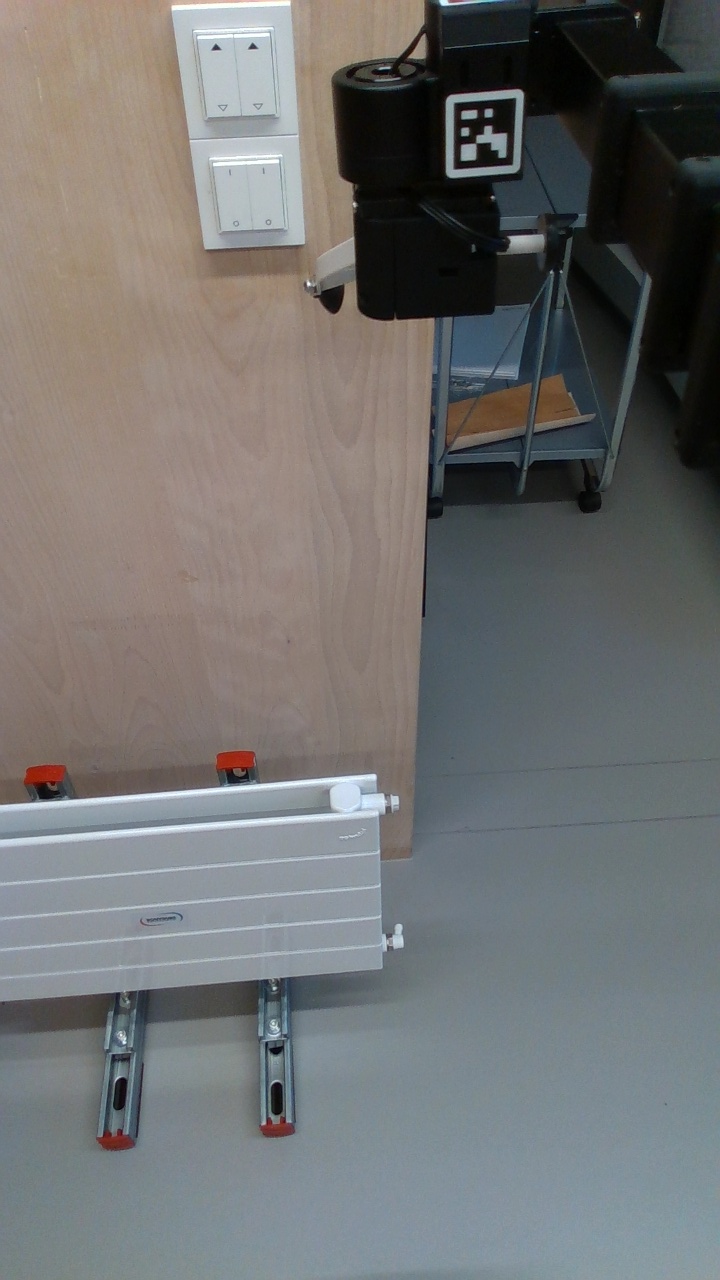Light_Switch: (184, 10, 292, 130), (203, 124, 303, 249)
Radiator: (1, 767, 398, 1009)
